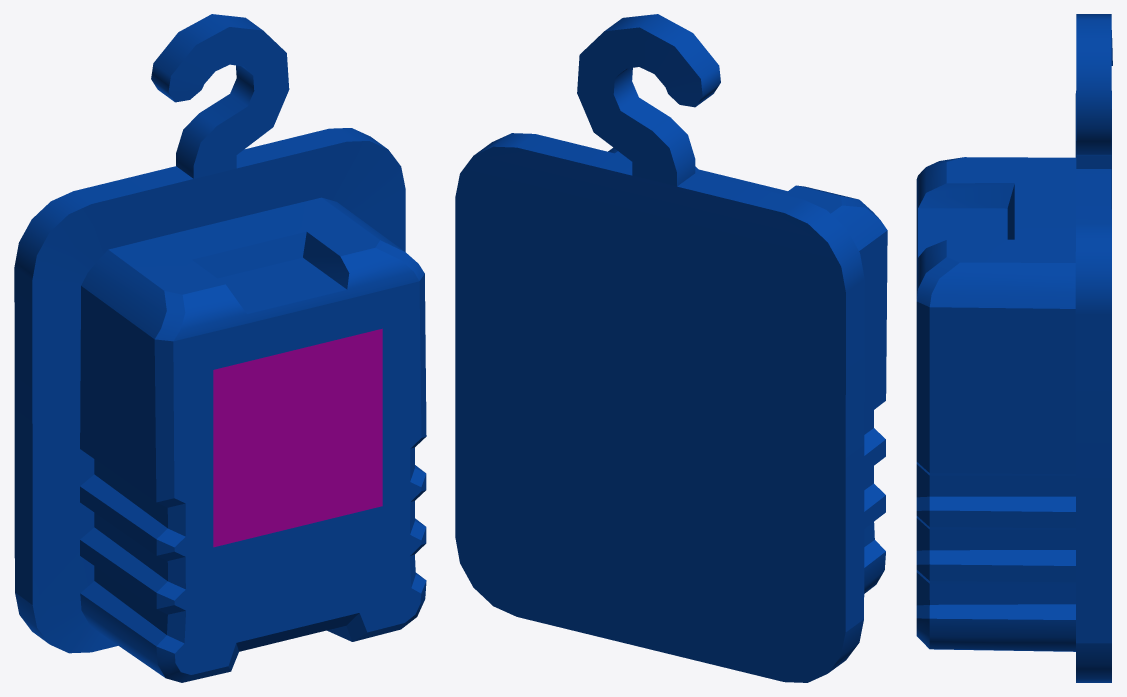
File: obj_consumable_outfitpackage.fbx
3 views of the same model, side by side, from view 1: azimuth 30°, elevation 25°; view 2: azimuth 150°, elevation 25°; view 3: azimuth 270°, elevation 25° (orthographic). The views are drawn at different scales.
Parts seen in each view (by area): view 1: obj_consumable_outfitpackage03; view 2: obj_consumable_outfitpackage03; view 3: obj_consumable_outfitpackage03.
Part boxes in pixels (<box>): obj_consumable_outfitpackage03: <box>14,14,426,682</box>; obj_consumable_outfitpackage03: <box>455,14,887,682</box>; obj_consumable_outfitpackage03: <box>916,14,1112,682</box>.
Size of the model in its own units: 1.84 by 2.79 by 0.833.
